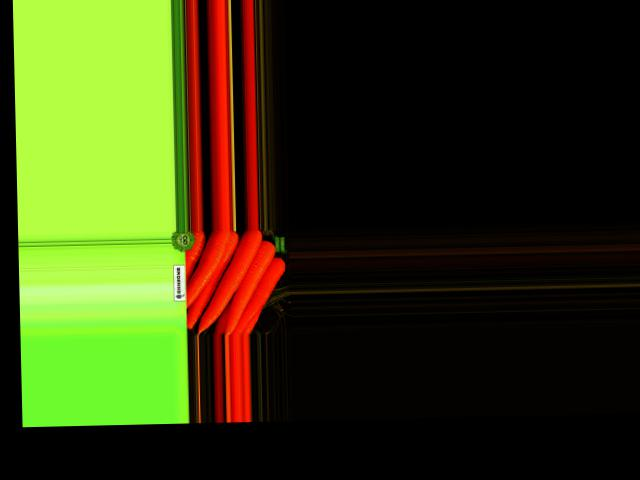carrot: (182, 230, 242, 331)
